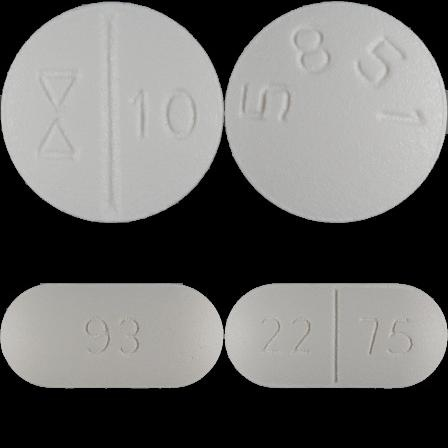43063-374: (0, 0, 224, 224)
